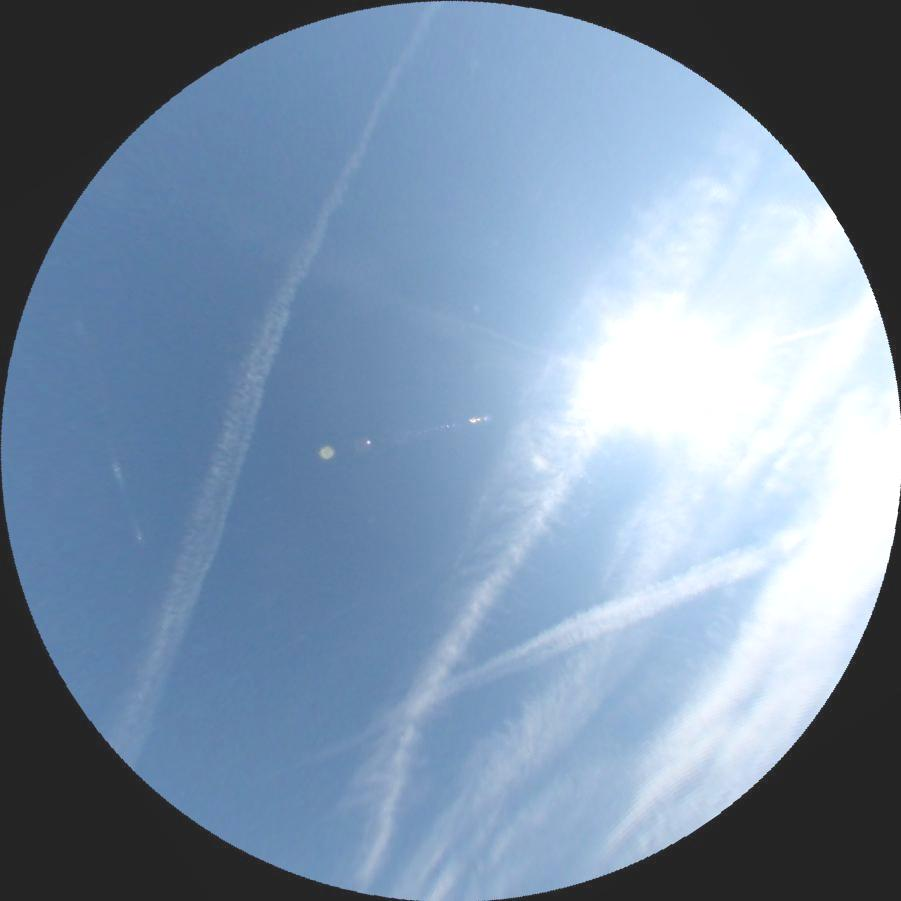contrail veryold: (277, 80, 780, 897), (85, 0, 444, 767), (293, 516, 813, 768)
parasite: (129, 600, 353, 742), (713, 302, 877, 361), (109, 461, 144, 540)
sun: (612, 319, 720, 408)
unknow: (384, 290, 584, 368)
